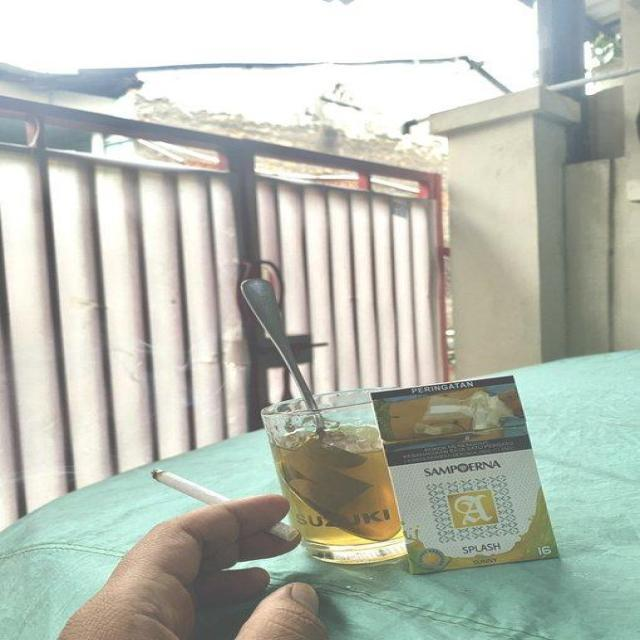rokok: (147, 460, 301, 548)
